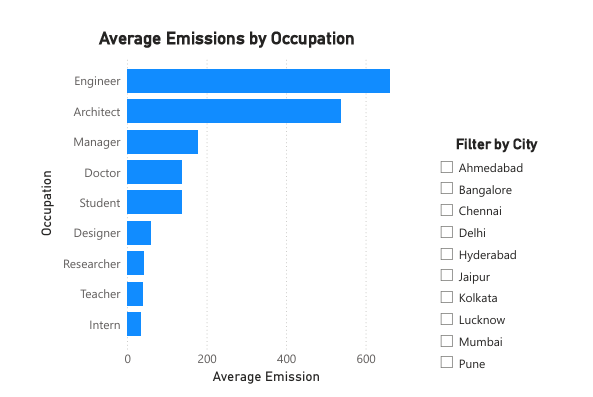

What the dashboard file says about the page in this screenshot:
{"tool":"powerbi","page":{"name":"Page 3","canvas":[1280,720],"ordinal":2},"visuals":[{"type":"clusteredBarChart","title":"Average Emissions by Occupation","fields":{"Category":["merged_data.occupation"],"Y":["Sum(merged_data.total_emission)"]},"box":[240,144,512,480],"z":0},{"type":"slicer","title":"Filter by City","fields":{"Values":["merged_data.city"]},"box":[768,288,176,336],"z":1}]}

Visuals, with their boxes on the page's 1280x720 design canvas (x1, y1, x2, y2). These are canvas units, not pixel positions in the 593x397 screenshot, which may show the page scaled, cropped or inside an application window:
"Average Emissions by Occupation" clusteredBarChart: Rect(240, 144, 752, 624)
"Filter by City" slicer: Rect(768, 288, 944, 624)
